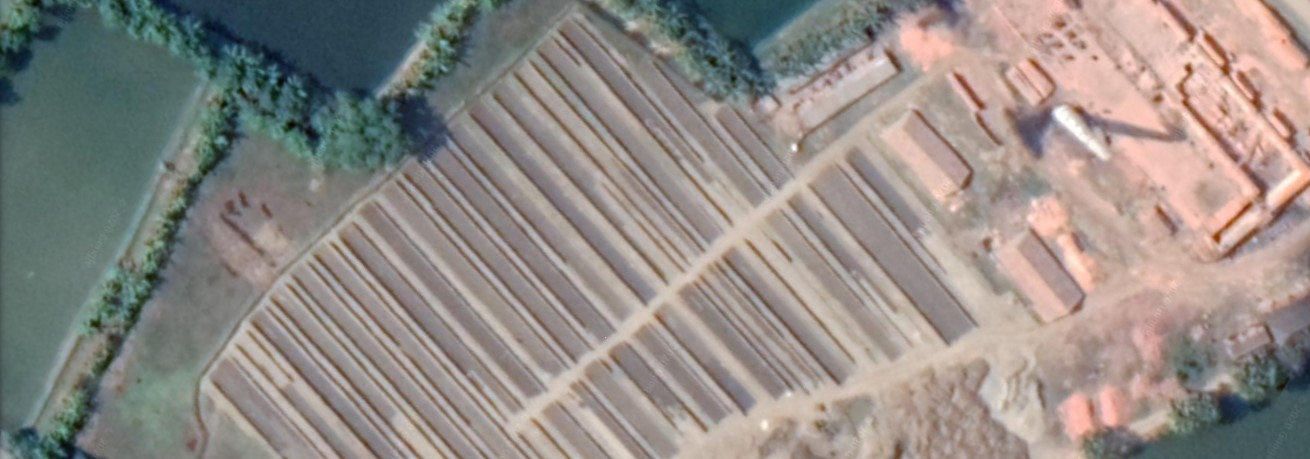kiln: (980, 5, 1303, 271)
